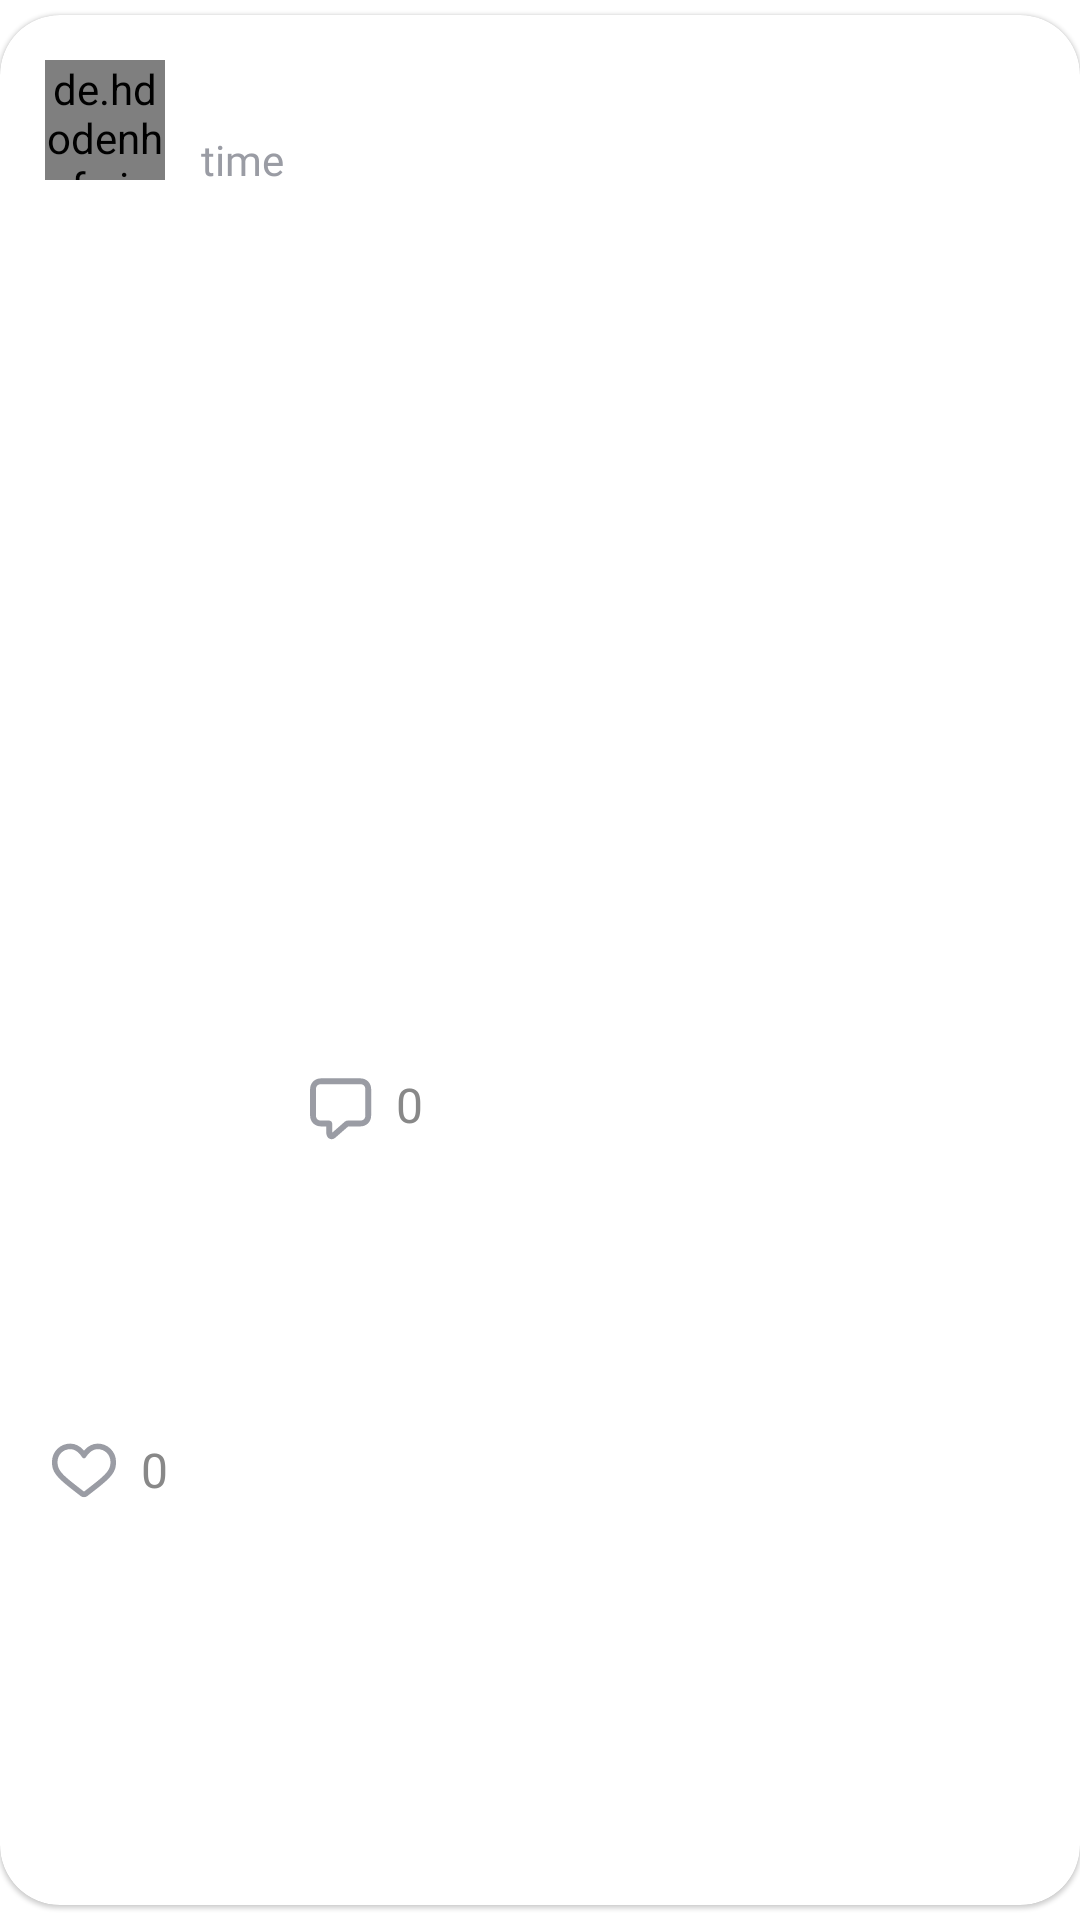

Screen size 1080px×1920px. Icon name, then its box in pixels as [x1=x1, y1=y1, x2=x2, y2=y2]:
comments: [x1=310, y1=1078, x2=372, y2=1140]
like: [x1=52, y1=1443, x2=116, y2=1497]
